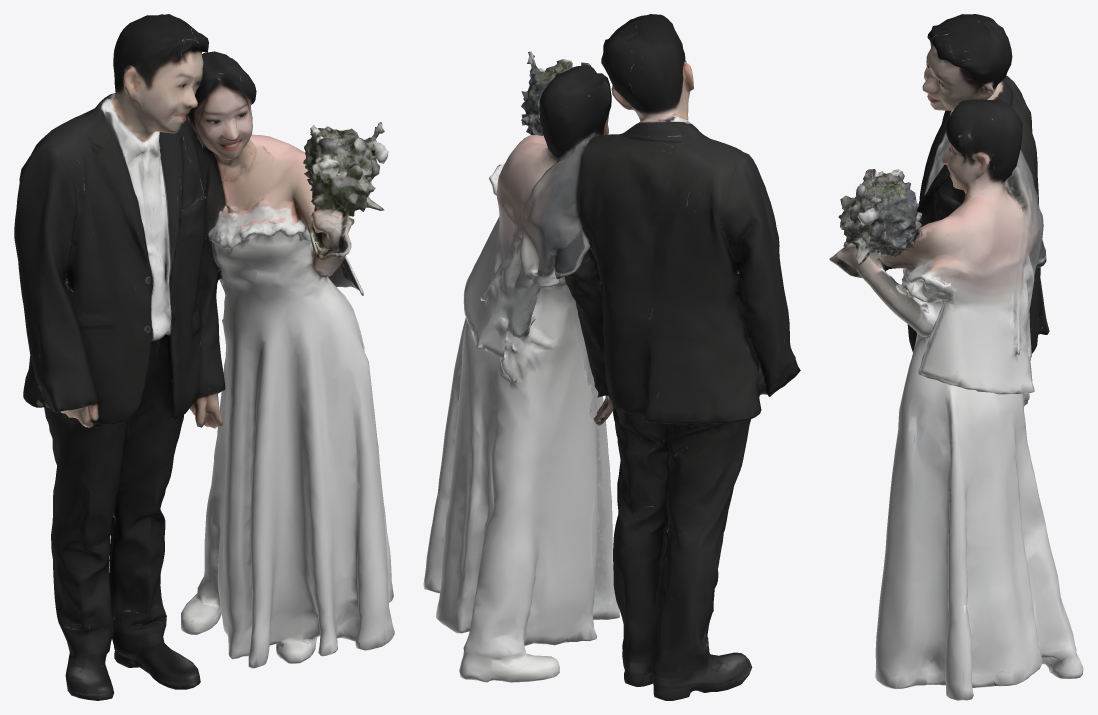
3 renders of one model, left to right at view 1: azimuth 30°, elevation 25°; view 2: azimuth 150°, elevation 25°; view 3: azimuth 270°, elevation 25°, orthographic. The views are drawn at different scales.
Bounding box in the file's own units: 1.11 × 1.91 × 0.7299.
Materials: 1 (1 with a texture image).
